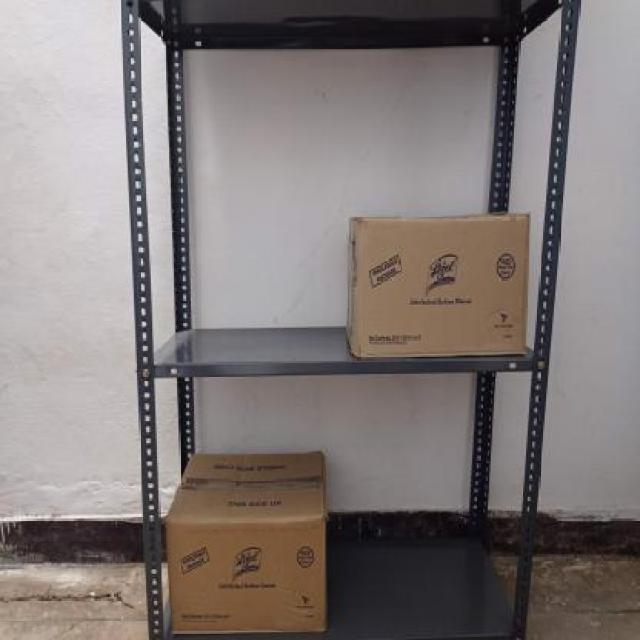box: (354, 216, 530, 355), (170, 514, 327, 640)
